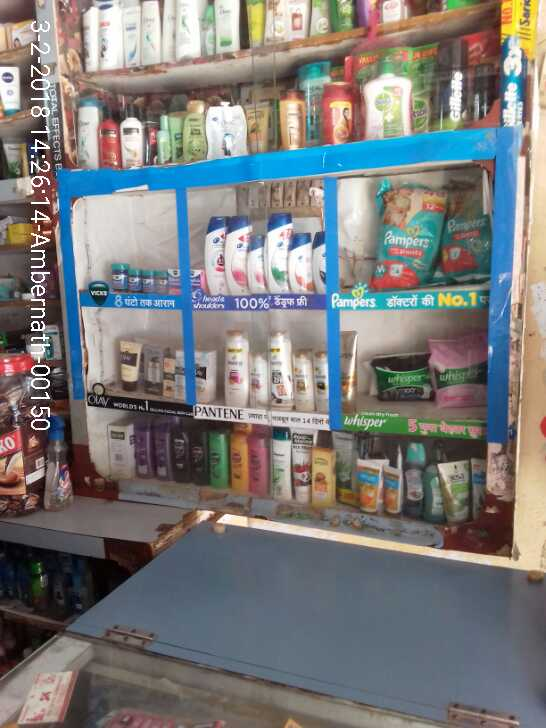vicks: (109, 260, 208, 300)
